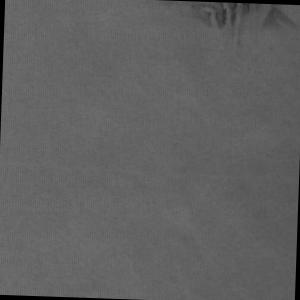Stain: (156, 1, 300, 53)
Wrinkle: (1, 99, 296, 300)
